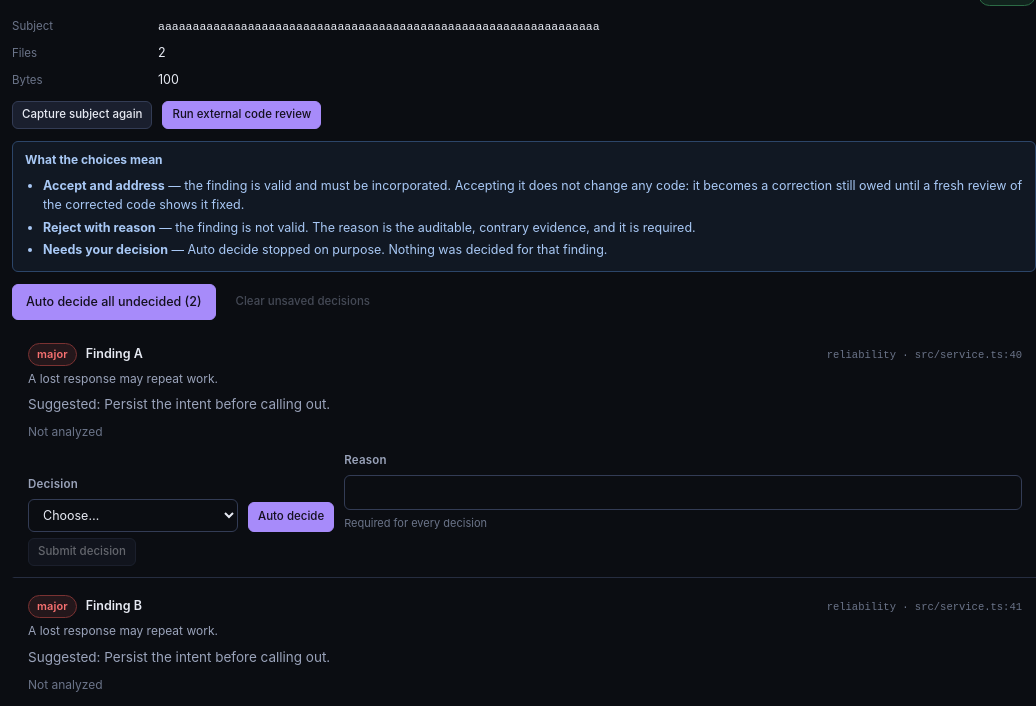
Test: code review: Auto decide beside every Decision › leaves a needs_user finding undecided and says, inside that finding, why automation stopped
This screenshot has width=1036, height=706.
Expected: the text "Finding A" is shown, [86,344,143,363]
Click the button with aria-label "Auto decide: Finding A" at (291, 517), box [248,502,334,532]
(page scrolled)
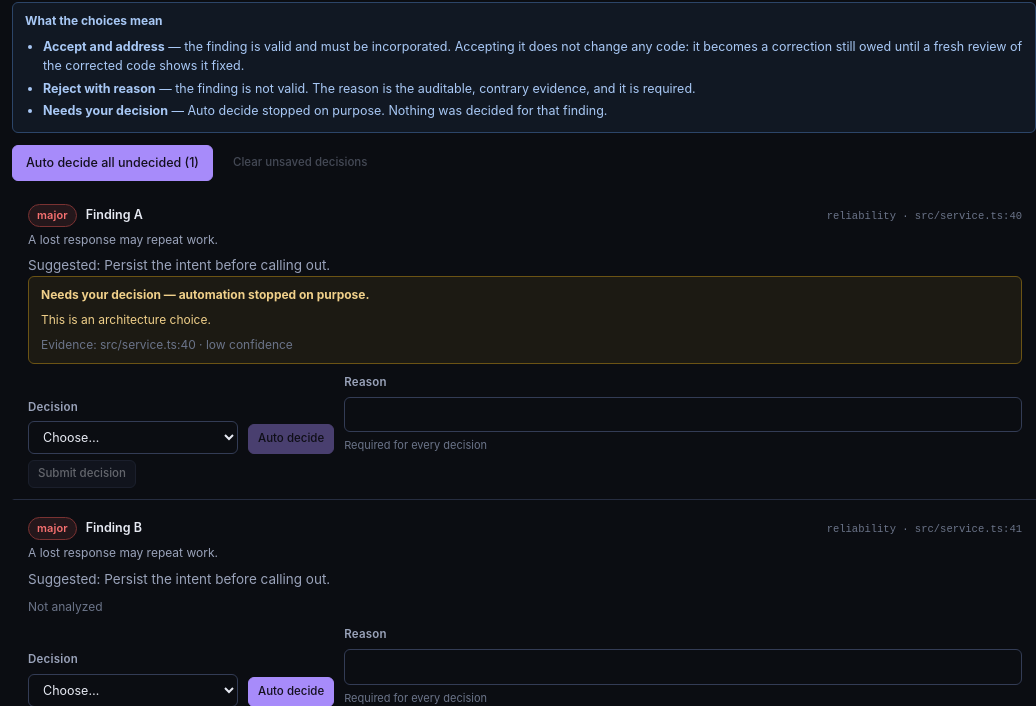
Expected: the text "Needs your decision — automation stopped on purpose" shows "Finding A", [86,207,143,222]
Expected: the text "Needs your decision — automation stopped on purpose" shows "This is an architecture choice.", [41,312,211,327]
Expected: the button with aria-label "Auto decide: Finding A" is disabled, [248,424,334,454]
